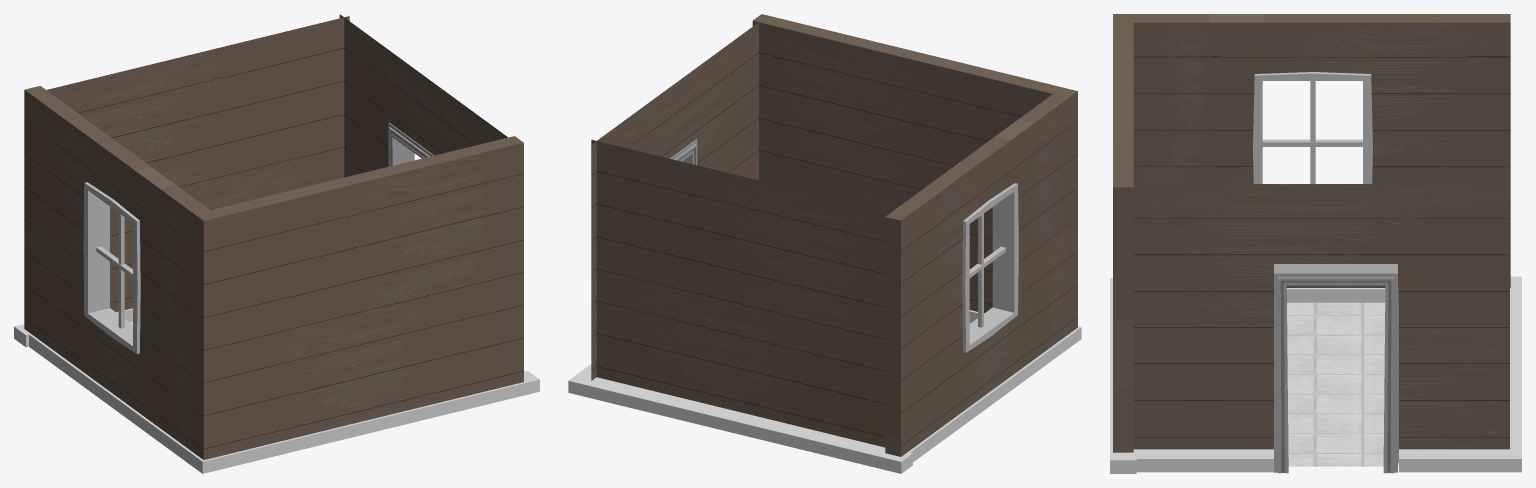
File: laundry.gltf
3 views of the same model, side by side, from view 1: azimuth 30°, elevation 25°; view 2: azimuth 150°, elevation 25°; view 3: azimuth 270°, elevation 25° (orthographic). The views are drawn at different scales.
Visible parts, largest first — view 1: Wall Standard (Corner) Alt.003, Wall Standard.001, Wall Standard (Window 3).006, Wall Standard (Door).006, Wall Standard (Corner) Border.003, Window Frame 3 B.005, Window Frame Ac 3.005, Door Frame 2.001; view 2: Wall Standard.001, Wall Standard (Corner) Alt.003, Wall Standard (Window 3).006, Wall Standard (Door).006, Wall Standard (Corner) Border.006, Window Frame 3 B.005, Wall Standard (Corner) Border.003, Window Frame Ac 3.005; view 3: Wall Standard (Door).006, Wall Standard (Window 3).006, Wall Standard (Corner) Alt.003, Plane.004, Wall Standard (Corner) Border.006, Door Frame 2.001, Window Frame 3 B.005, Wall Standard (Corner) Border.003, Window Frame Ac 3.005.
Part boxes in pixels (left/top/right/bottom): Wall Standard (Corner) Alt.003: left=160, top=136, right=523, bottom=459; Wall Standard.001: left=46, top=16, right=349, bottom=312; Wall Standard (Window 3).006: left=24, top=86, right=175, bottom=427; Wall Standard (Door).006: left=339, top=14, right=507, bottom=177; Wall Standard (Corner) Border.003: left=22, top=328, right=539, bottom=473; Window Frame 3 B.005: left=83, top=182, right=140, bottom=353; Window Frame Ac 3.005: left=96, top=213, right=132, bottom=328; Door Frame 2.001: left=388, top=122, right=433, bottom=166; Wall Standard.001: left=591, top=139, right=890, bottom=447; Wall Standard (Corner) Alt.003: left=752, top=14, right=1077, bottom=358; Wall Standard (Window 3).006: left=885, top=119, right=1034, bottom=456; Wall Standard (Door).006: left=591, top=22, right=758, bottom=380; Wall Standard (Corner) Border.006: left=568, top=364, right=912, bottom=473; Window Frame 3 B.005: left=962, top=183, right=1018, bottom=352; Wall Standard (Corner) Border.003: left=882, top=310, right=1081, bottom=462; Window Frame Ac 3.005: left=969, top=214, right=1005, bottom=327; Wall Standard (Door).006: left=1133, top=184, right=1509, bottom=462; Wall Standard (Window 3).006: left=1210, top=14, right=1510, bottom=287; Wall Standard (Corner) Alt.003: left=1113, top=14, right=1212, bottom=452; Plane.004: left=1287, top=302, right=1398, bottom=466; Wall Standard (Corner) Border.006: left=1136, top=276, right=1521, bottom=472; Door Frame 2.001: left=1274, top=264, right=1397, bottom=473; Window Frame 3 B.005: left=1253, top=72, right=1372, bottom=183; Wall Standard (Corner) Border.003: left=1110, top=278, right=1511, bottom=473; Window Frame Ac 3.005: left=1262, top=81, right=1362, bottom=183.
Size of the model in its own units: 4.24 by 3 by 4.02.
Materials: 3 (3 with a texture image).
